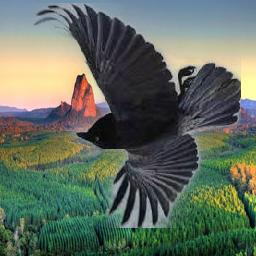Crow: (33, 4, 242, 229)
